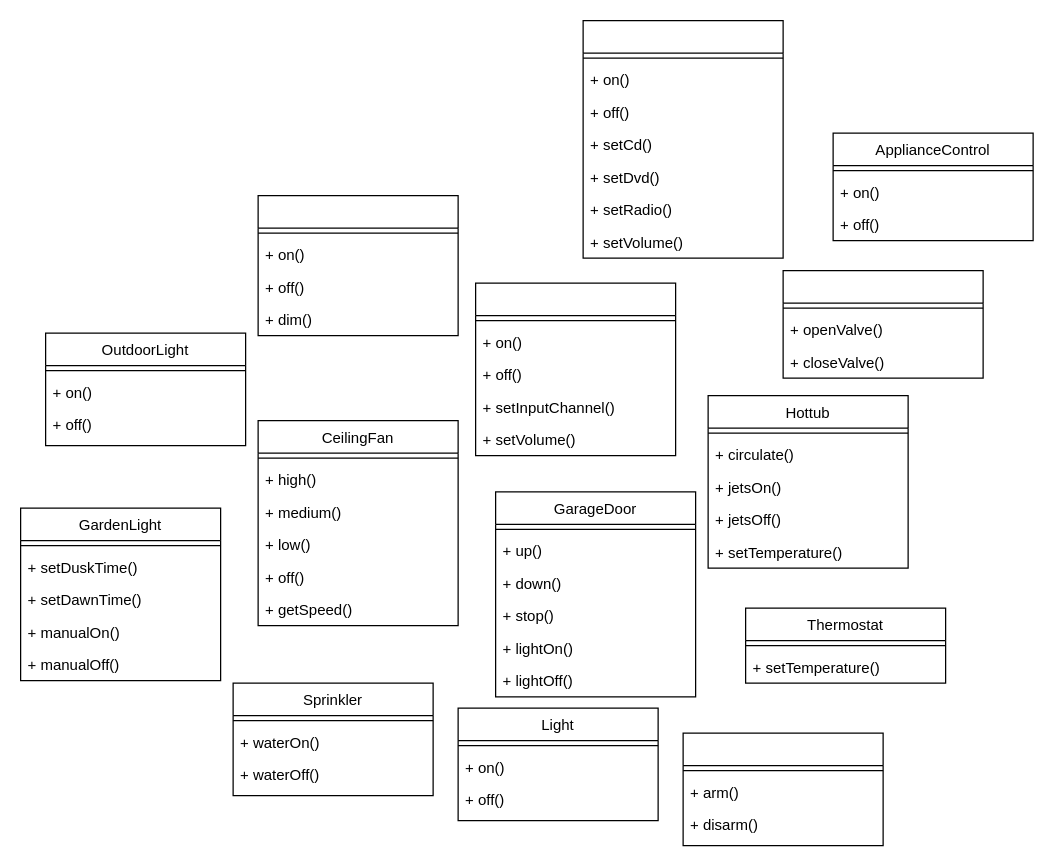
The diagram is 1054 pixels wide and 866 high, and some of its shapes have lost their labels. The shapes that lost their labels are listed below. From the top down, each one's box as (x1, y1, x2, y2) in pixels, then its label:
(582, 19, 783, 258): Stereo
(257, 194, 458, 336): CeilingFight
(782, 269, 983, 378): FaucetControl
(474, 282, 676, 456): TV
(682, 732, 883, 846): SecurityControl
